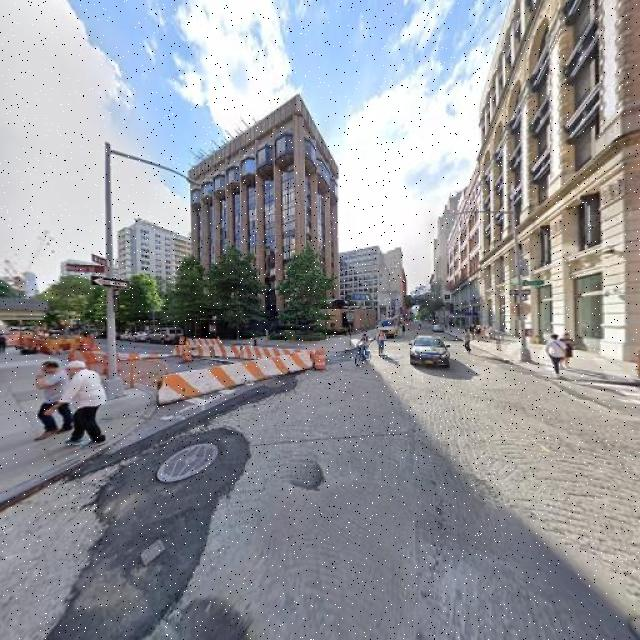Building: (485, 1, 640, 367), (189, 105, 337, 339)
